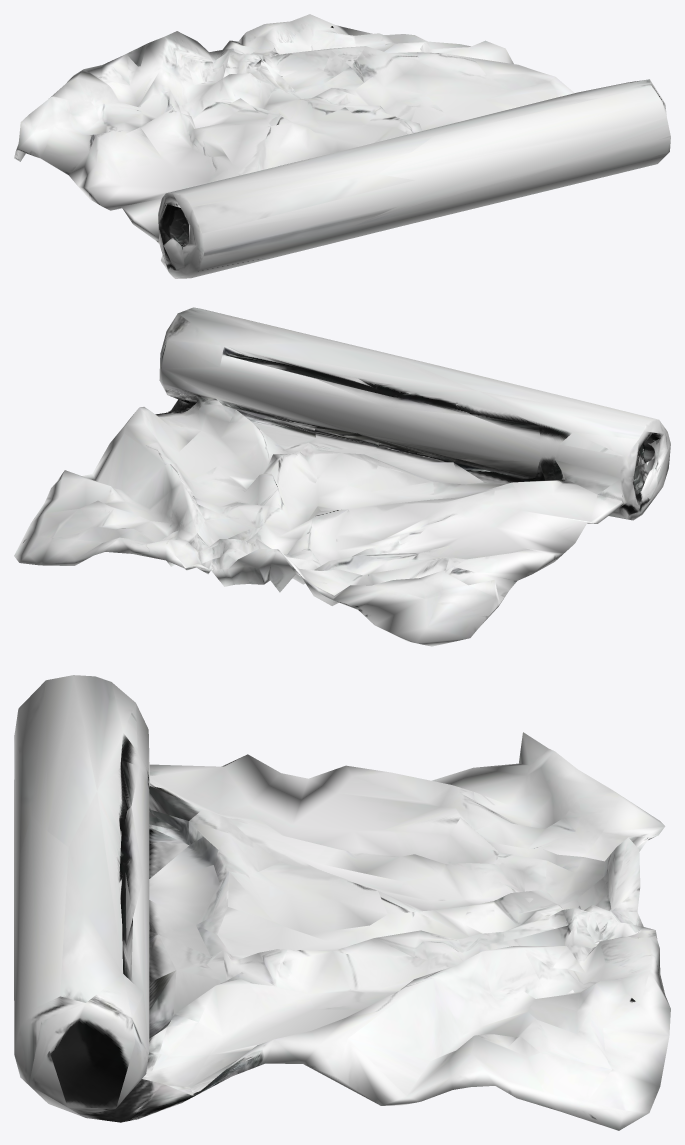
The model's file is react-aluminum_roll-CUIbTx2t.glb.
The picture shows the model from 3 angles, top to bottom: view 1: azimuth 30°, elevation 25°; view 2: azimuth 150°, elevation 25°; view 3: azimuth 270°, elevation 25°; orthographic projection. The views are drawn at different scales.
Parts seen in each view (by area): view 1: Meshy_Mesh_0.003; view 2: Meshy_Mesh_0.003; view 3: Meshy_Mesh_0.003.
Part boxes in pixels (box(x1,y1,x2,y2)): Meshy_Mesh_0.003: box(14, 14, 670, 278); Meshy_Mesh_0.003: box(14, 307, 670, 646); Meshy_Mesh_0.003: box(14, 675, 670, 1130).
Size of the model in its own units: 0.3054 by 0.0632 by 0.2557.
1 material, 1 textured.
